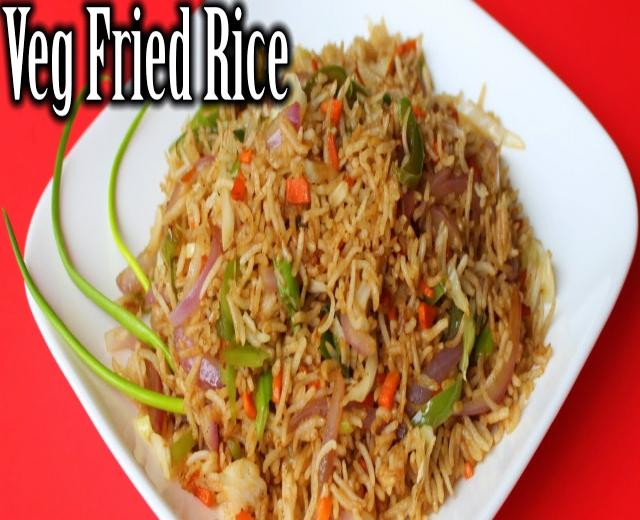fried rice: (92, 19, 548, 520)
